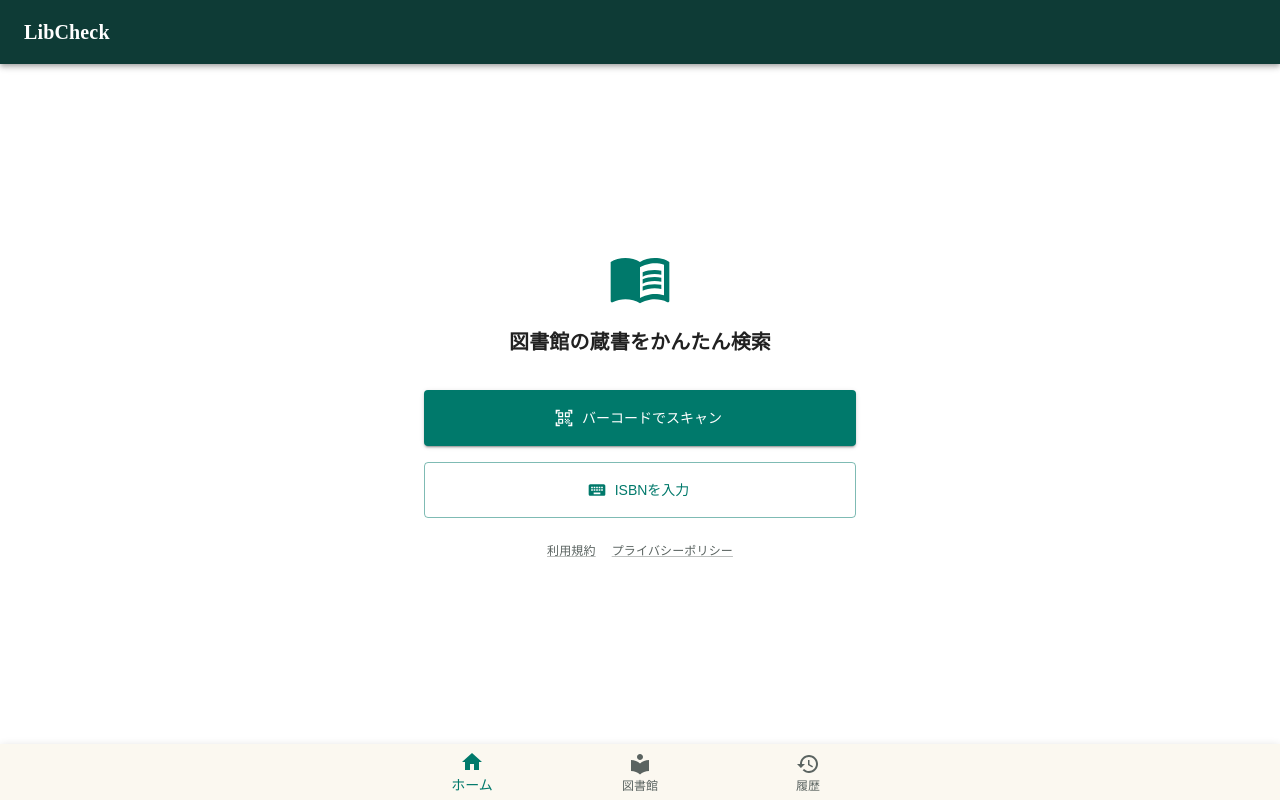
Test: IsbnInputPage › ホームから遷移後、戻るボタンでホームへ戻る
The image size is (1280, 800).
Click the button "ISBNを入力".
click(640, 490)  # box [424,462,856,518]
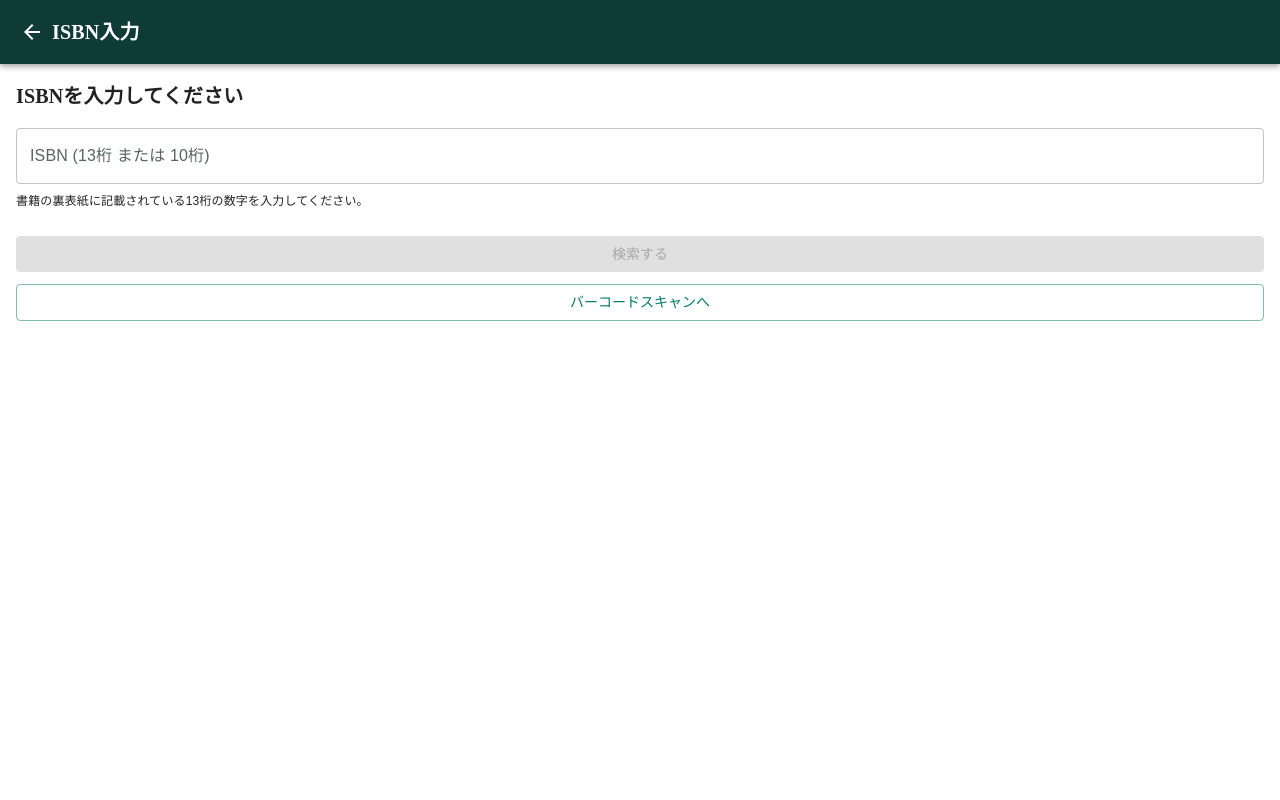
expect the text "ISBN入力" is shown: met, box [52,21,140,43]
Click the button named "戻る".
click(32, 32)  # box [12,12,52,52]
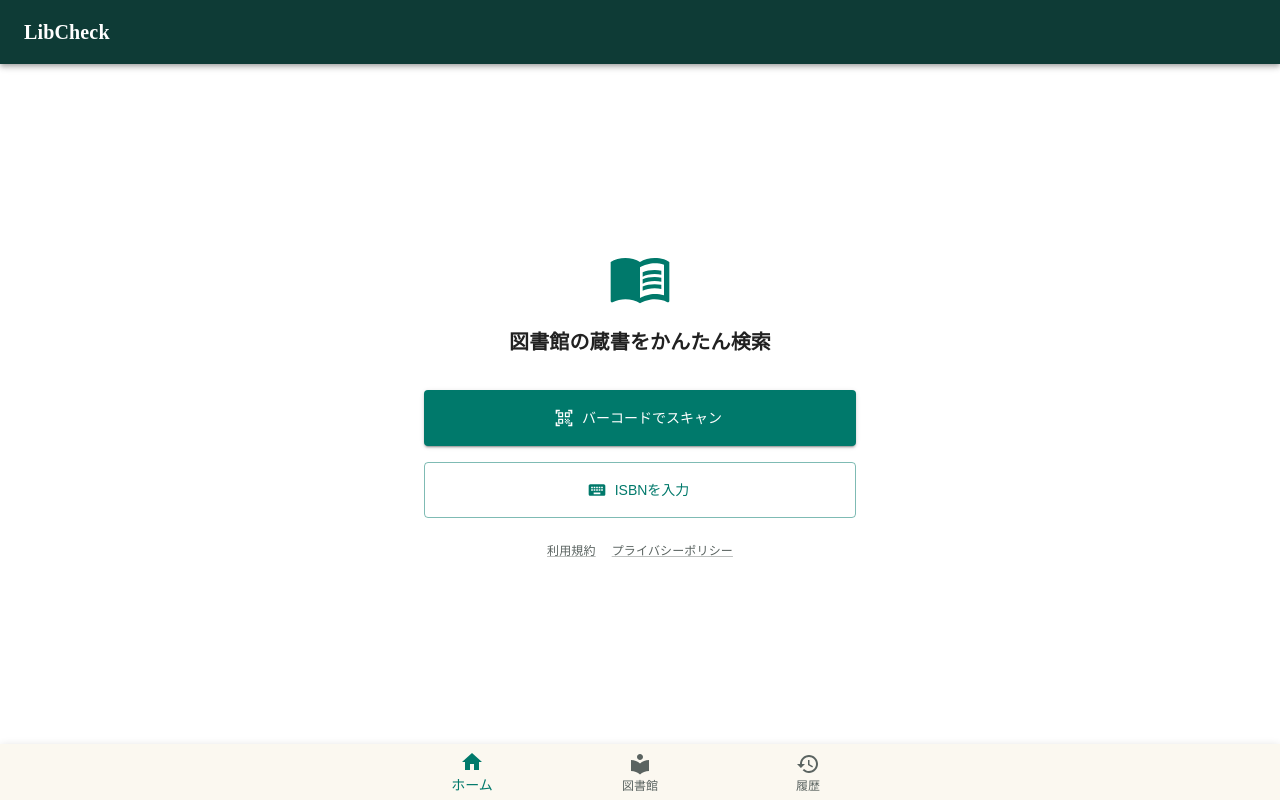
expect the text "LibCheck" is shown: met, box [24,21,110,43]
